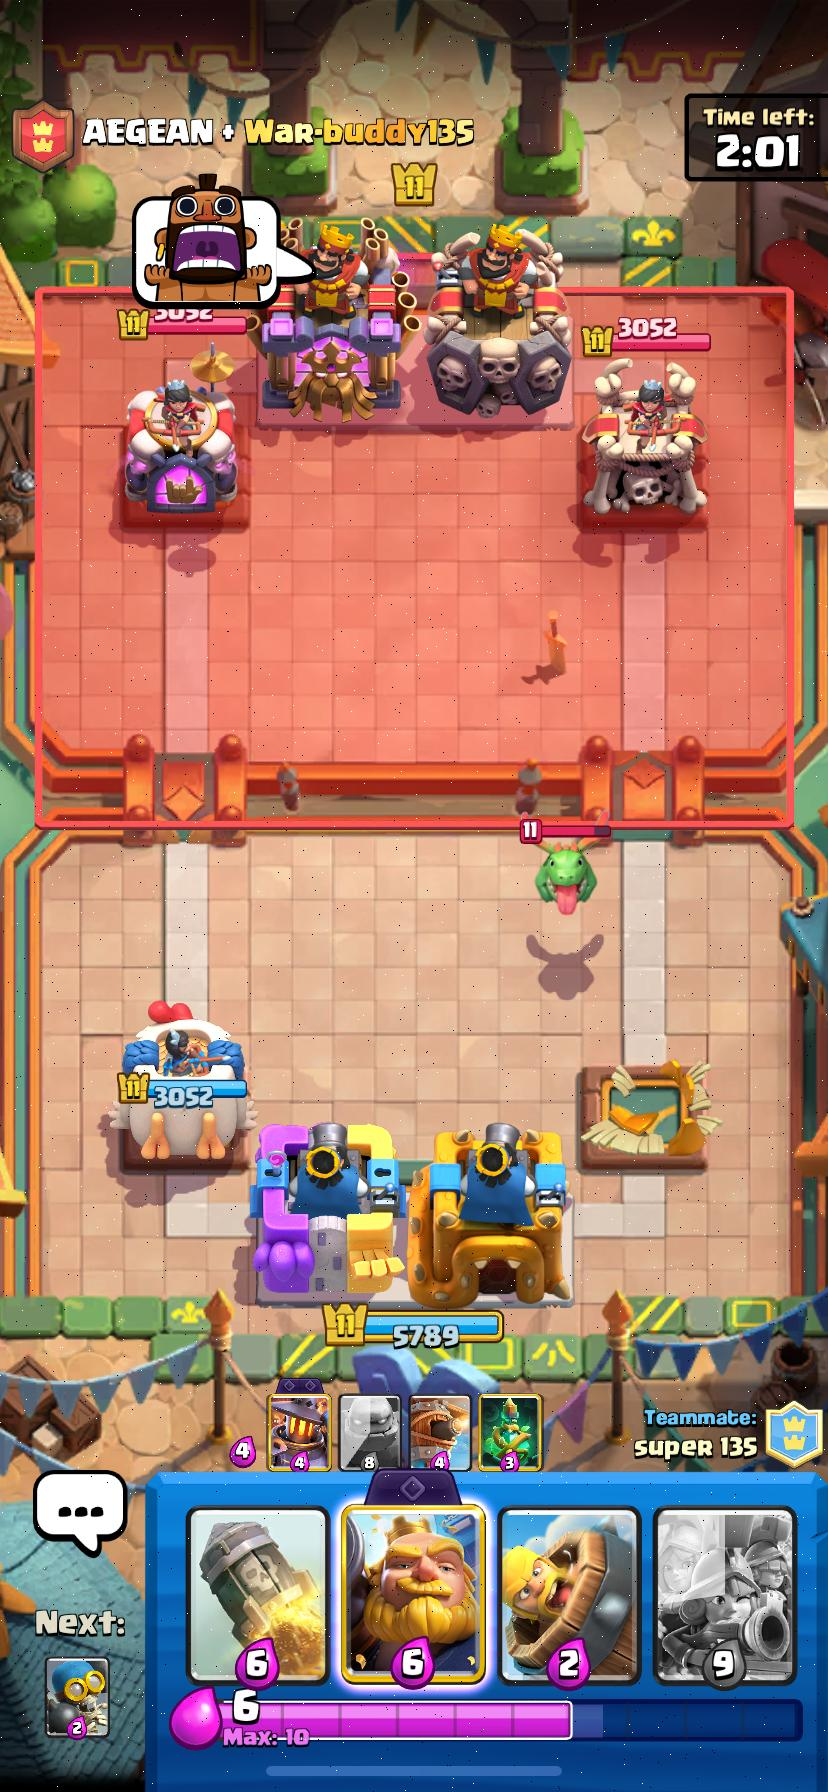EBabyDrag: (528, 813, 611, 913)
EKingTower: (261, 220, 418, 420), (423, 225, 570, 418)
EnemyPrincessTower: (581, 359, 706, 514), (124, 379, 238, 514)
OwnKingTower: (407, 1123, 571, 1306), (253, 1123, 402, 1300)
OwnPrincessTower: (110, 1018, 254, 1159)
TowerDown: (579, 1060, 707, 1172)
